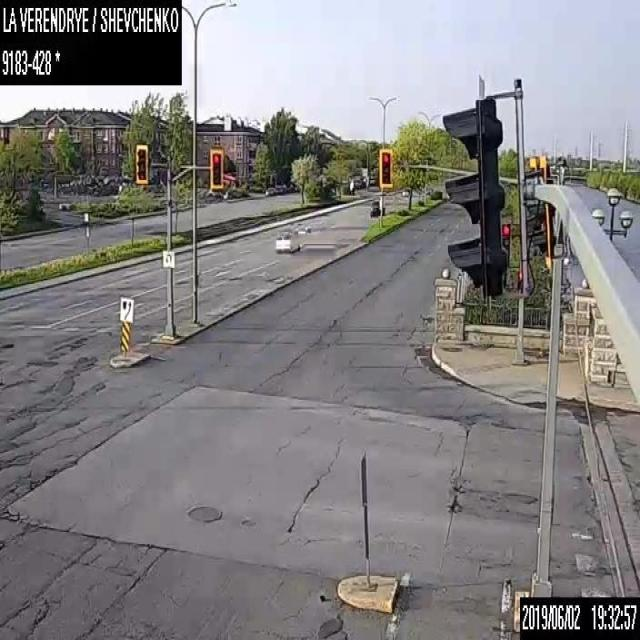vehicle: (275, 229, 299, 252), (370, 198, 385, 214), (274, 182, 286, 194), (264, 186, 274, 196), (401, 187, 410, 197)
